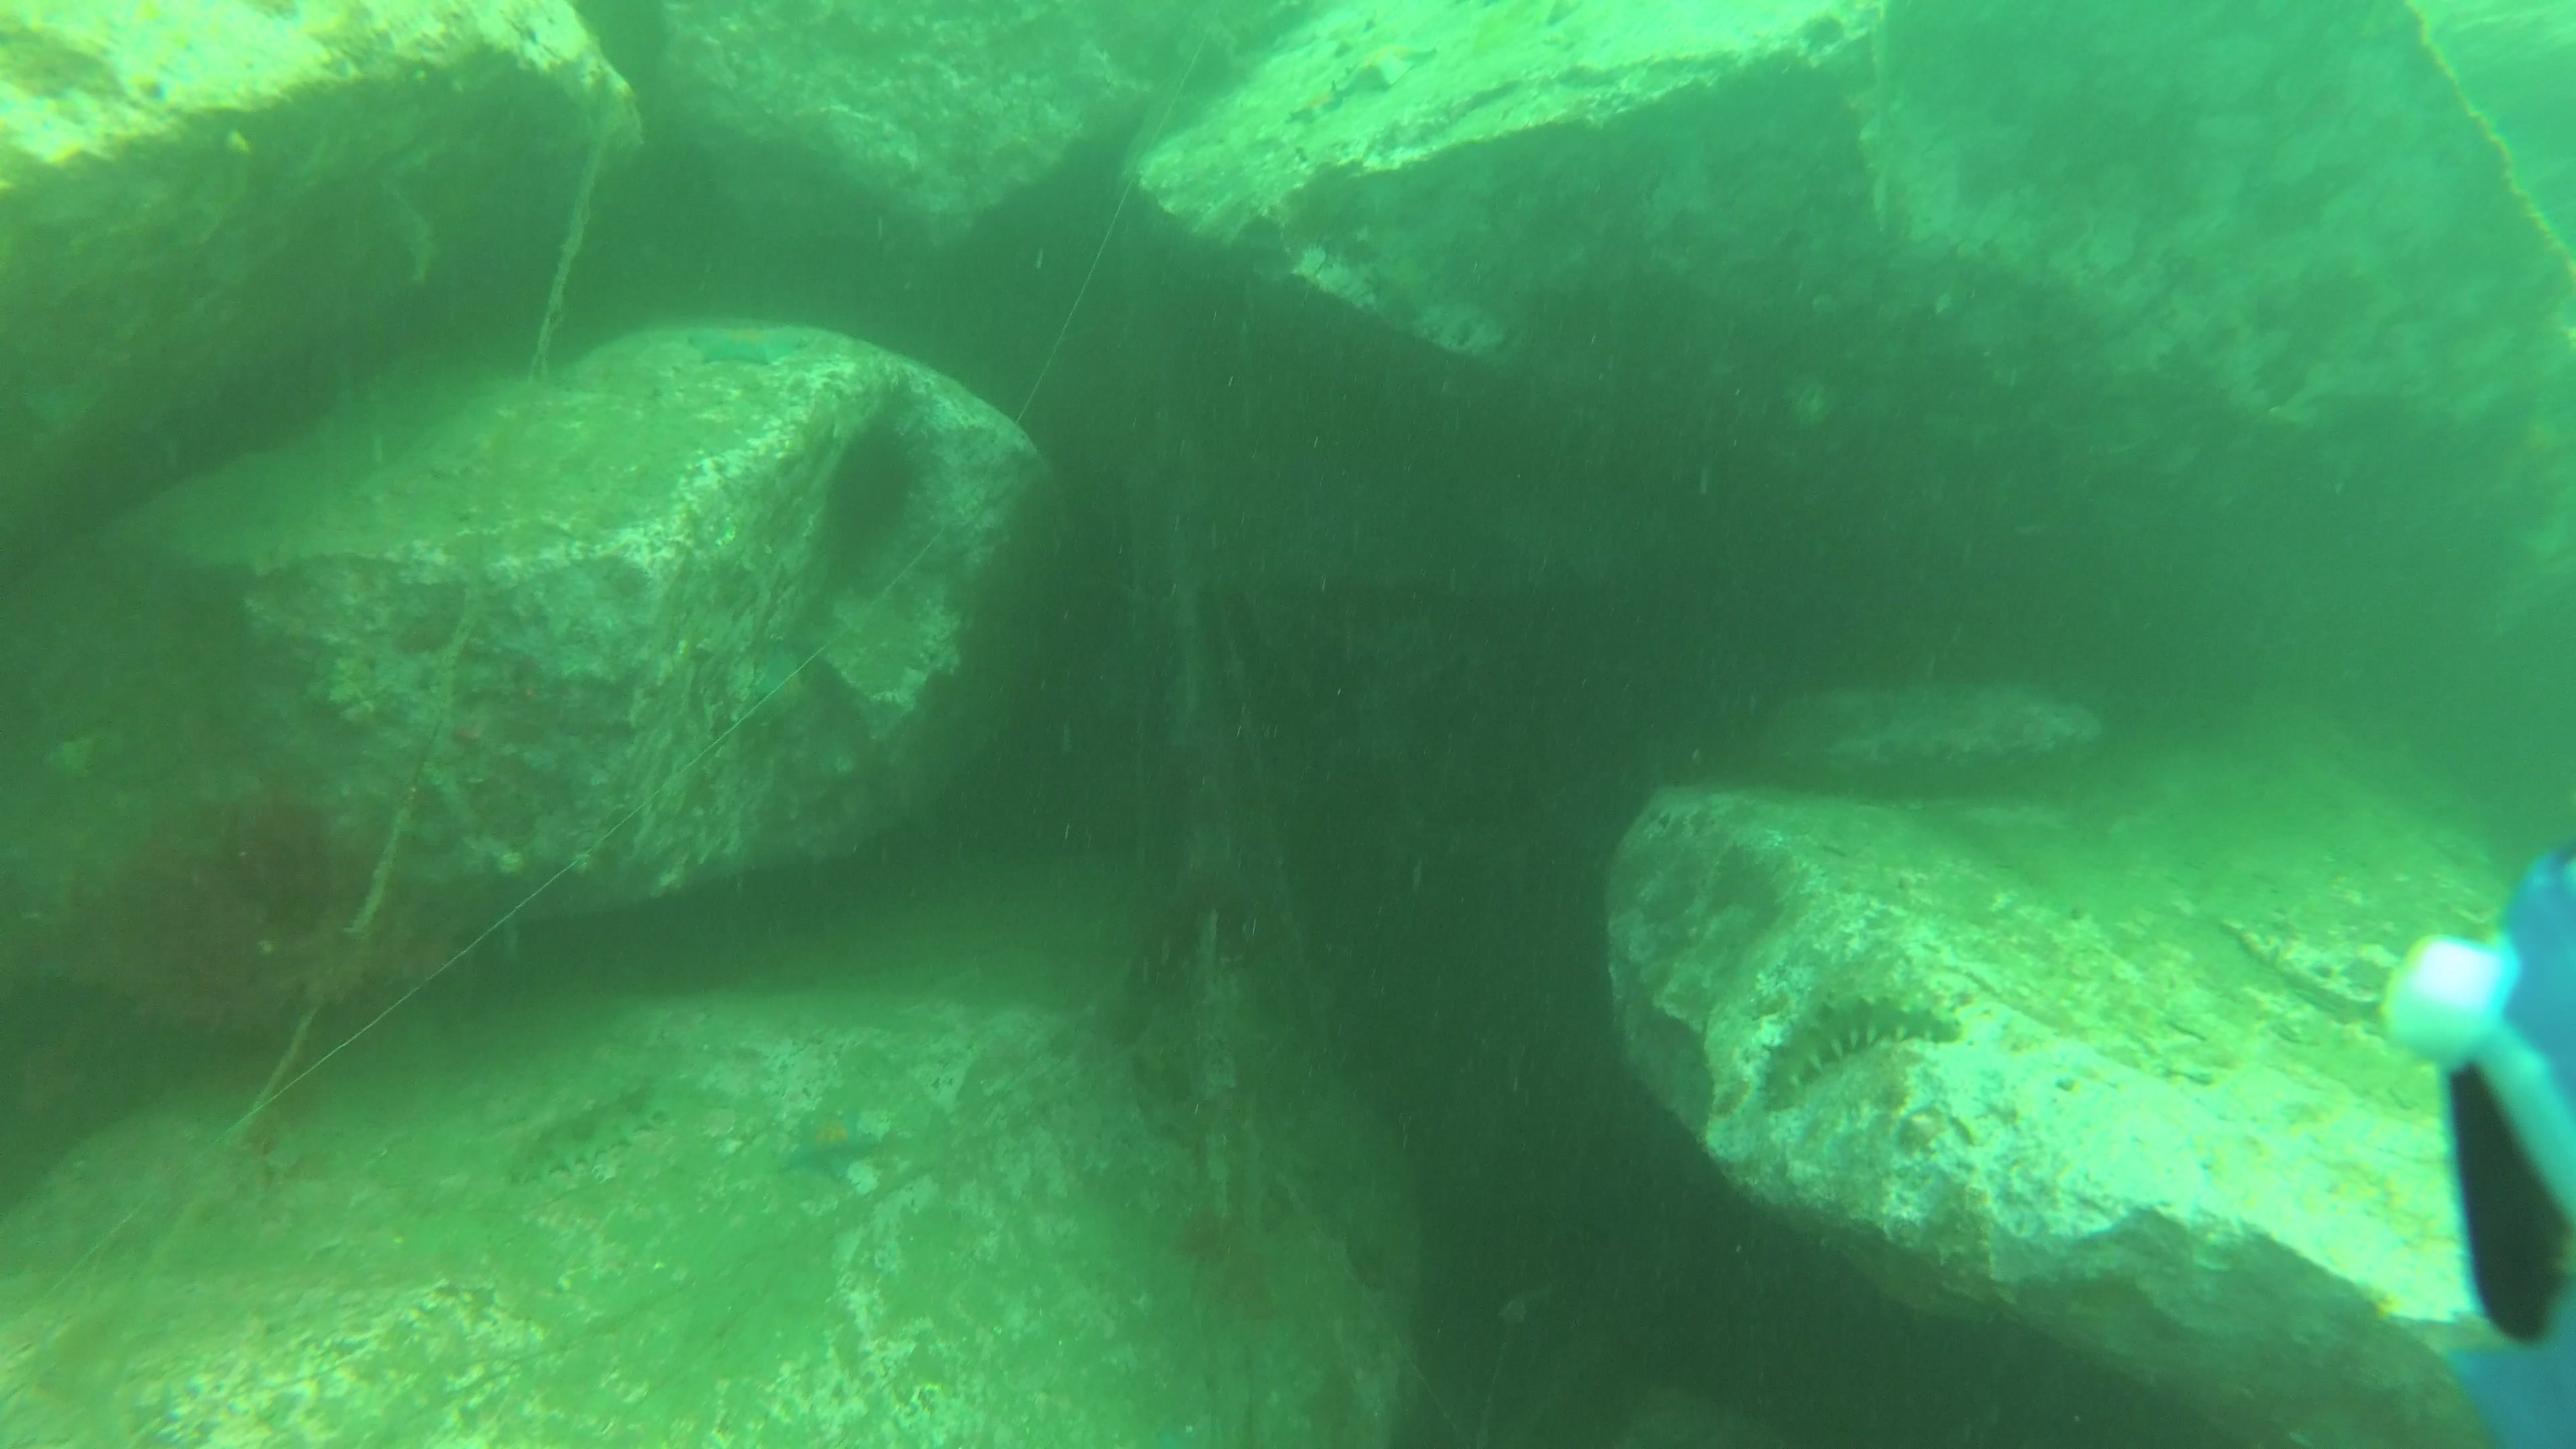echinus: (816, 412, 936, 580)
holothurian: (1746, 984, 1967, 1115), (508, 1077, 676, 1194)
starfish: (771, 1099, 890, 1189), (683, 317, 817, 372), (1345, 35, 1440, 96), (1293, 90, 1346, 127)
